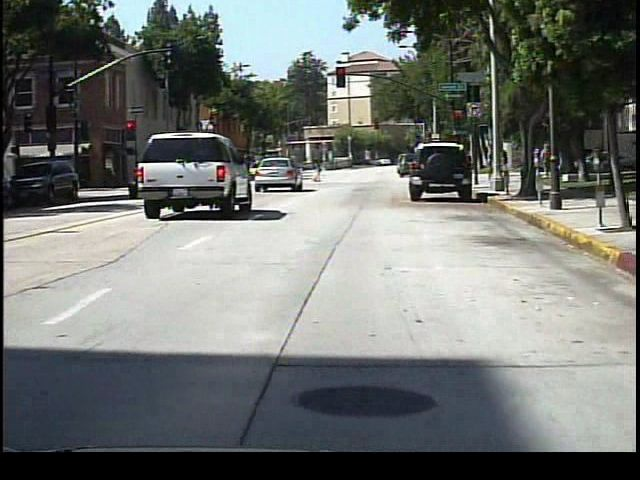person: (537, 140, 555, 183), (460, 152, 477, 183), (311, 156, 328, 185)
